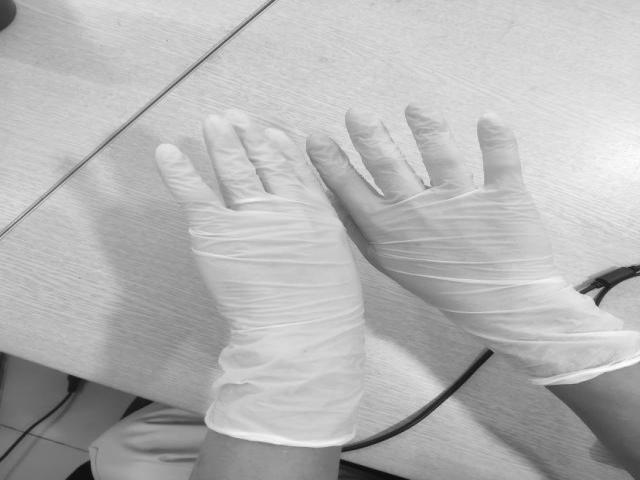gloved: (310, 110, 590, 303), (156, 110, 367, 355)
